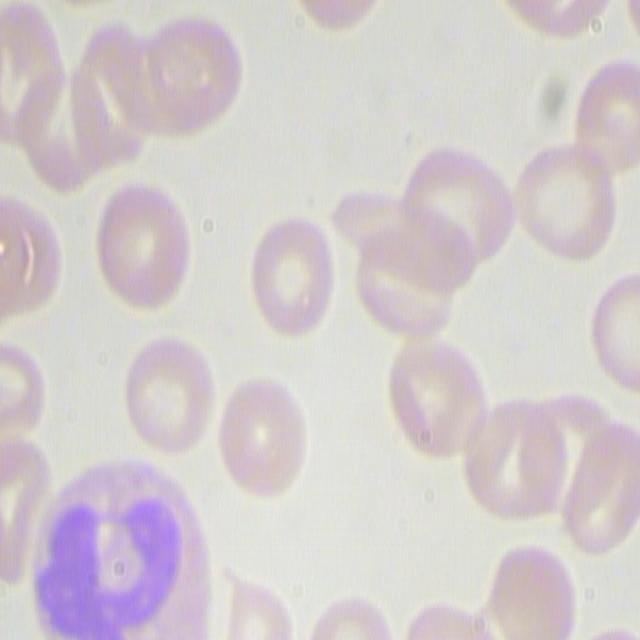RBC: (346, 162, 474, 342), (125, 7, 247, 148), (396, 141, 514, 274), (507, 138, 621, 264), (91, 175, 193, 314), (458, 399, 569, 524), (120, 324, 218, 465), (72, 10, 157, 168), (386, 332, 486, 463), (245, 213, 338, 348), (213, 374, 306, 500), (560, 411, 638, 556), (484, 533, 579, 638), (0, 0, 64, 143), (571, 56, 640, 180), (0, 195, 63, 322), (0, 434, 47, 591), (589, 272, 640, 400), (0, 332, 46, 446), (496, 0, 616, 39)
WBC: (42, 464, 206, 640)
